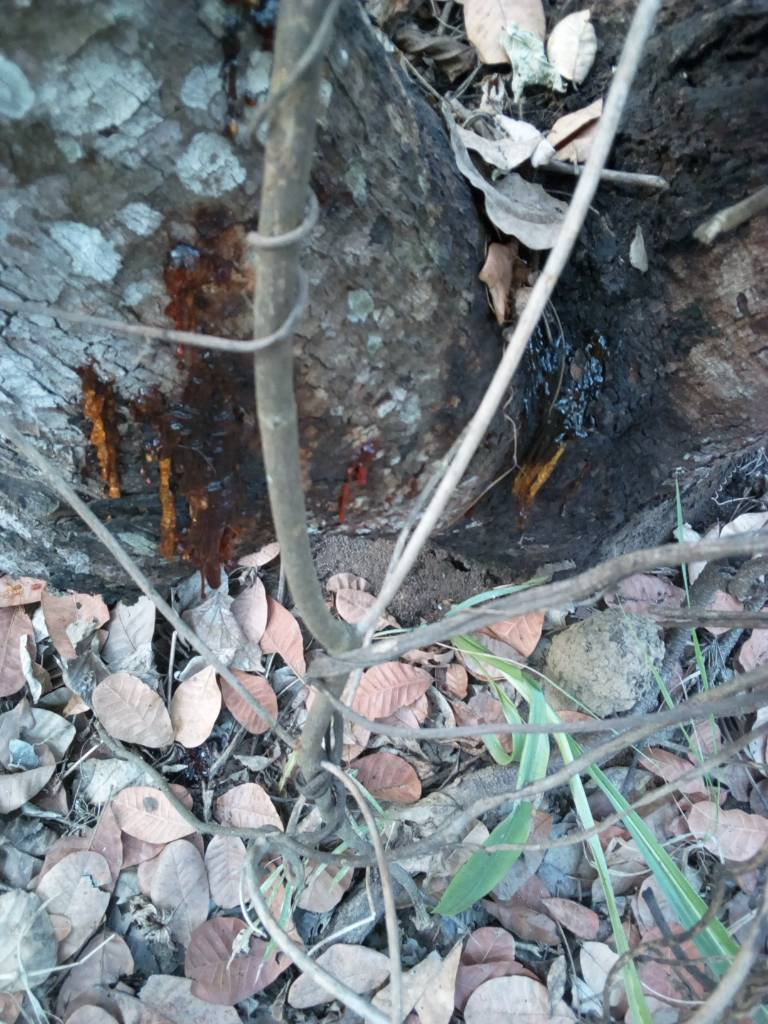Gommose: (100, 299, 271, 571), (540, 328, 690, 516)
